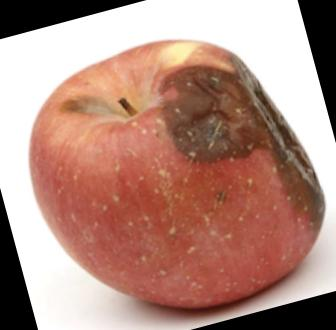Banana: (30, 39, 323, 310)
